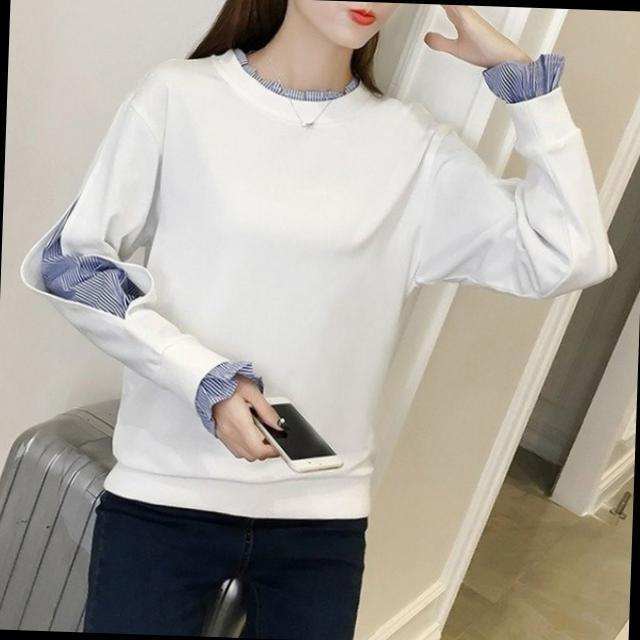long sleeve shirt: (39, 51, 569, 446)
sweater: (35, 50, 621, 521)
trousers: (77, 488, 371, 640)
